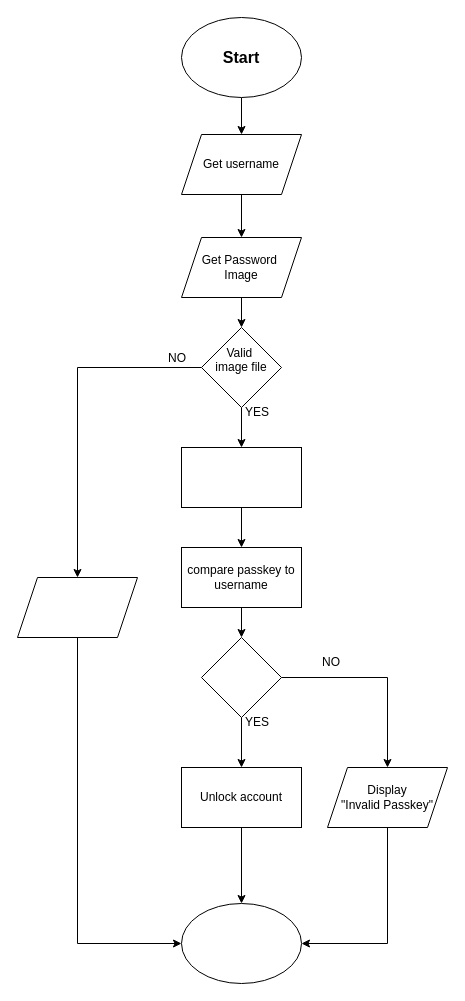
This 465x1001 diagram has some shape labels left out. Each missing label, with the centre of its shape:
"Decode image and get binary passkey" goes at point (241, 477).
"Display Error Message" goes at point (77, 607).
"End" goes at point (241, 943).
"Valid Passkey" goes at point (241, 677).
